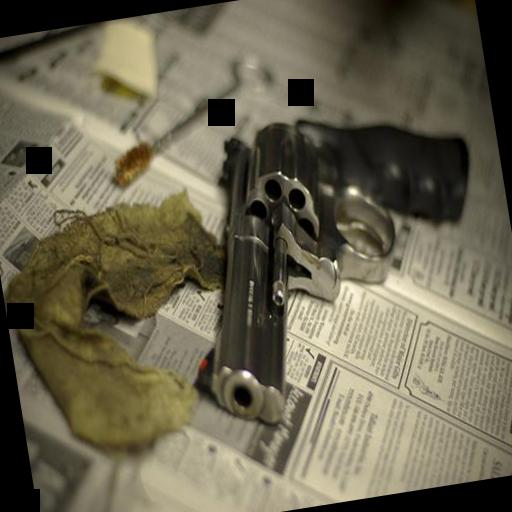Handgun: (158, 90, 506, 429)
